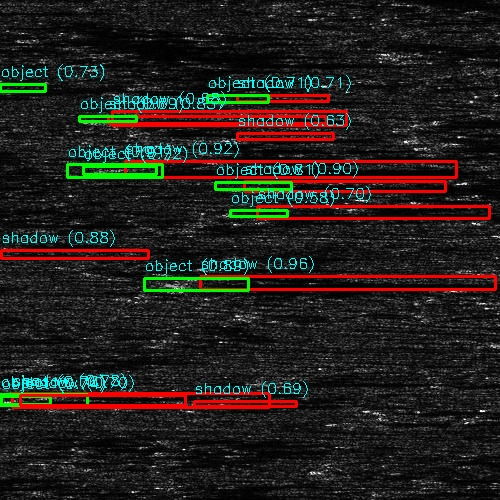rock: (161, 277, 244, 290), (172, 132, 277, 141), (199, 93, 272, 102), (0, 246, 25, 259), (111, 114, 142, 123), (480, 264, 500, 275), (8, 397, 39, 402), (132, 164, 143, 175), (0, 216, 6, 225)
shadow: (203, 277, 500, 290), (138, 164, 456, 175), (0, 246, 186, 259), (127, 114, 355, 123), (0, 216, 155, 225), (236, 93, 378, 102), (225, 132, 367, 141), (24, 397, 152, 402), (431, 144, 500, 147), (0, 482, 28, 489)
